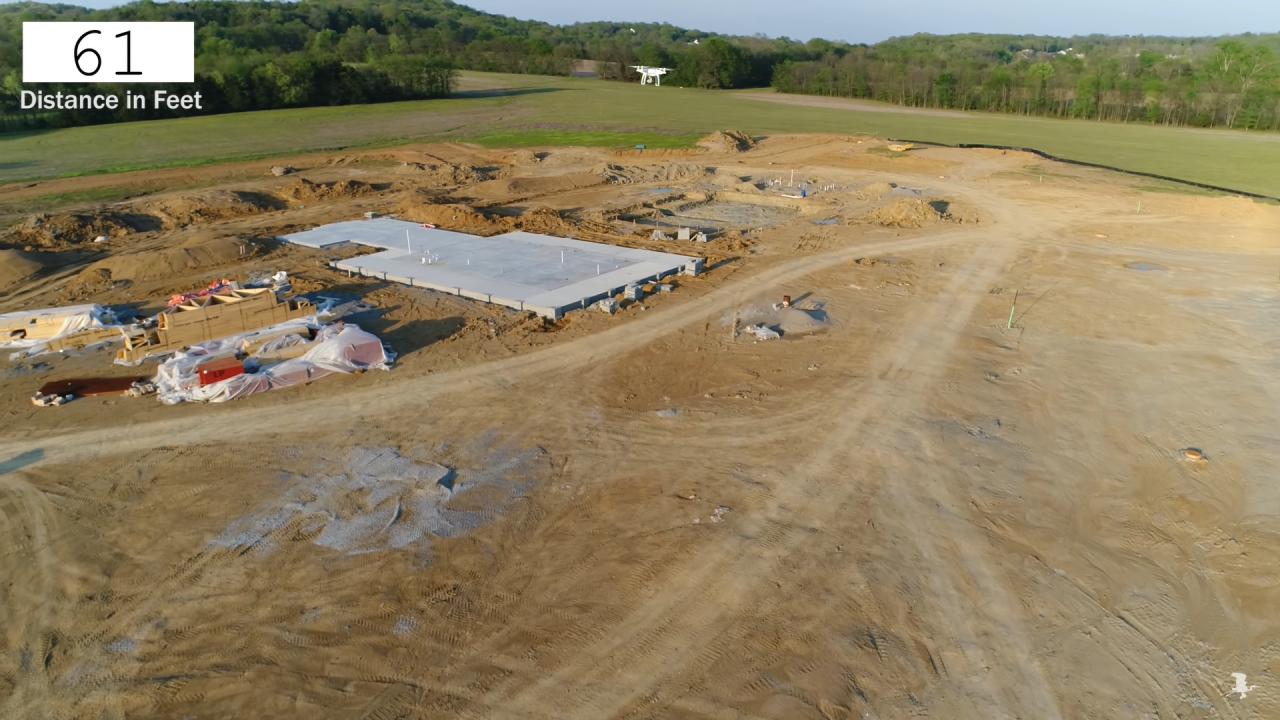Drone: (622, 57, 680, 94)
